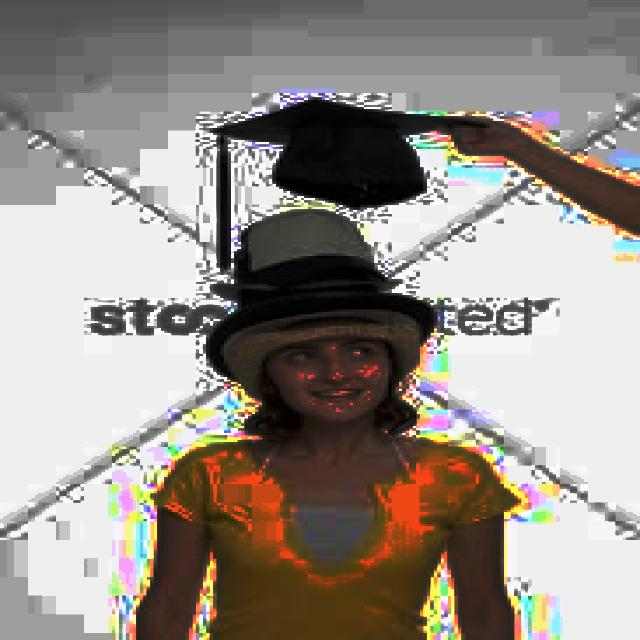TOPI: (182, 260, 448, 396), (199, 93, 490, 205), (192, 210, 424, 286), (192, 305, 434, 354)
